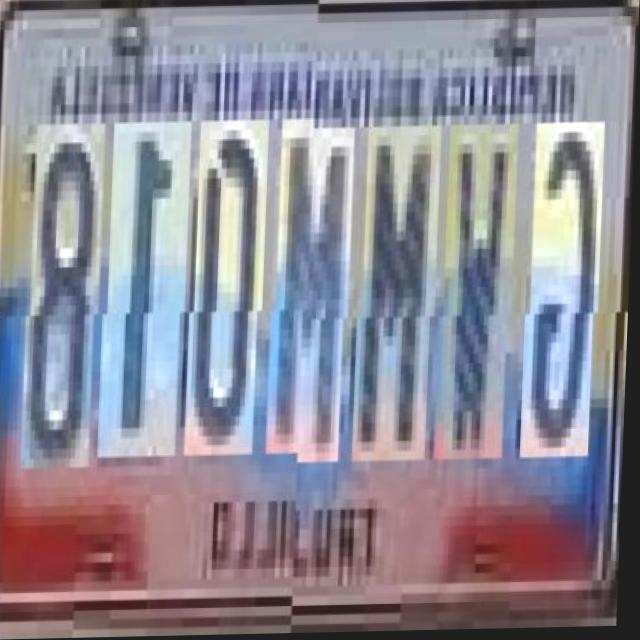0: (187, 131, 265, 466)
1: (101, 132, 188, 468)
8: (24, 134, 102, 479)
g: (523, 125, 601, 460)
m: (269, 129, 352, 465), (355, 128, 438, 463)
w: (438, 126, 516, 462)
